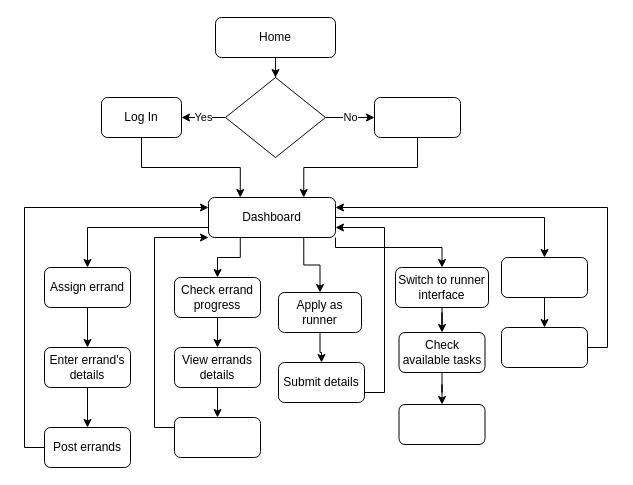
Some shapes in this 633 by 485 pixel diagram are drawn without their labels. Each missing label, with the centre of its shape:
Accept tasks: point (441, 424)
Check personal information: point (544, 277)
Edit account details: point (544, 347)
Have an account?: point (275, 117)
Sign up: point (417, 117)
View errands status: point (217, 437)
